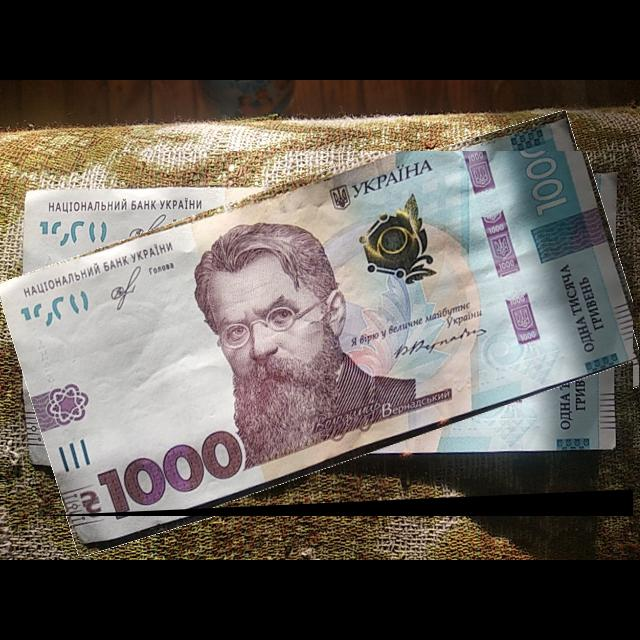1000uah: (10, 151, 634, 517)
